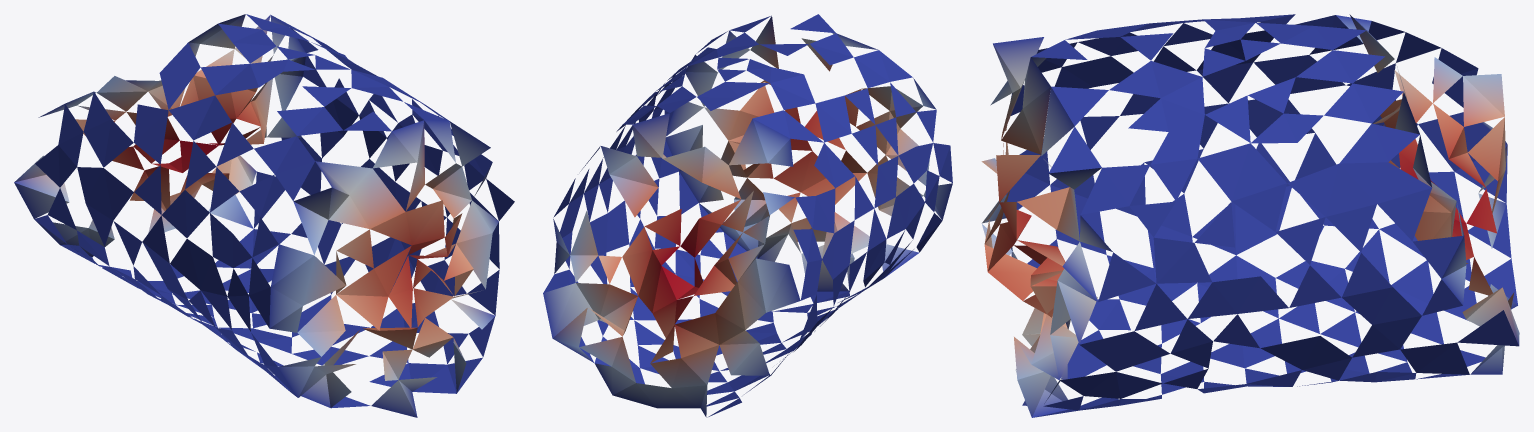
The model's file is carotid_slice.glb.
3 views of the same model, side by side, from view 1: azimuth 30°, elevation 25°; view 2: azimuth 150°, elevation 25°; view 3: azimuth 270°, elevation 25° (orthographic). The views are drawn at different scales.
Parts seen in each view (by area): view 1: carotid_slice; view 2: carotid_slice; view 3: carotid_slice.
Boxes of the visible parts, left/top/right/bottom form: carotid_slice: left=14, top=14, right=514, bottom=417; carotid_slice: left=543, top=14, right=952, bottom=417; carotid_slice: left=981, top=14, right=1519, bottom=417.
Bounding box in the file's own units: 0.7436 × 0.6853 × 0.9652.
